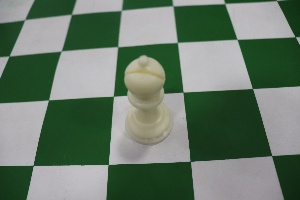white_bishop: (116, 49, 179, 148)
